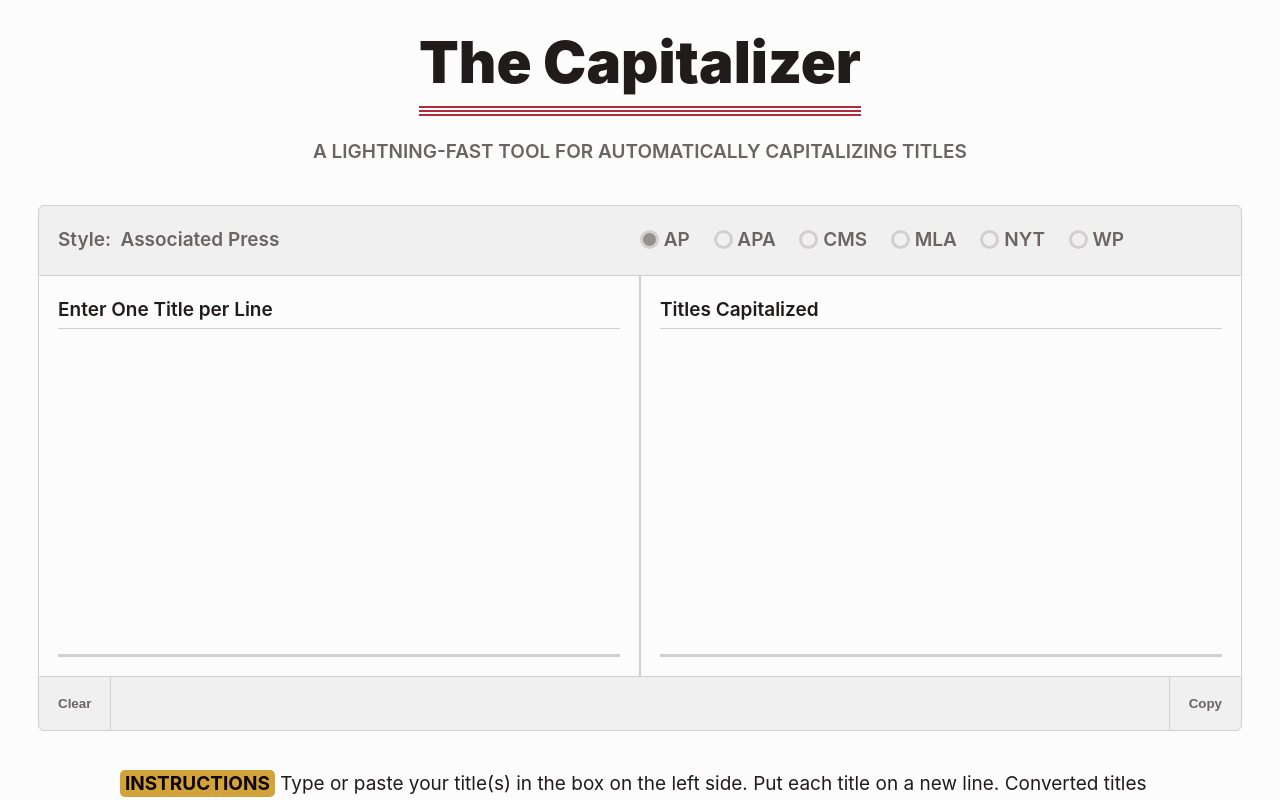
Scenario: App › wires the style selector to the input, and clear/copy buttons to the input's exposed methods
Type "the lord of the rings" into the text box with id "title-text".
click(339, 496); type("the lord of the rings")  # box [58,338,620,654]
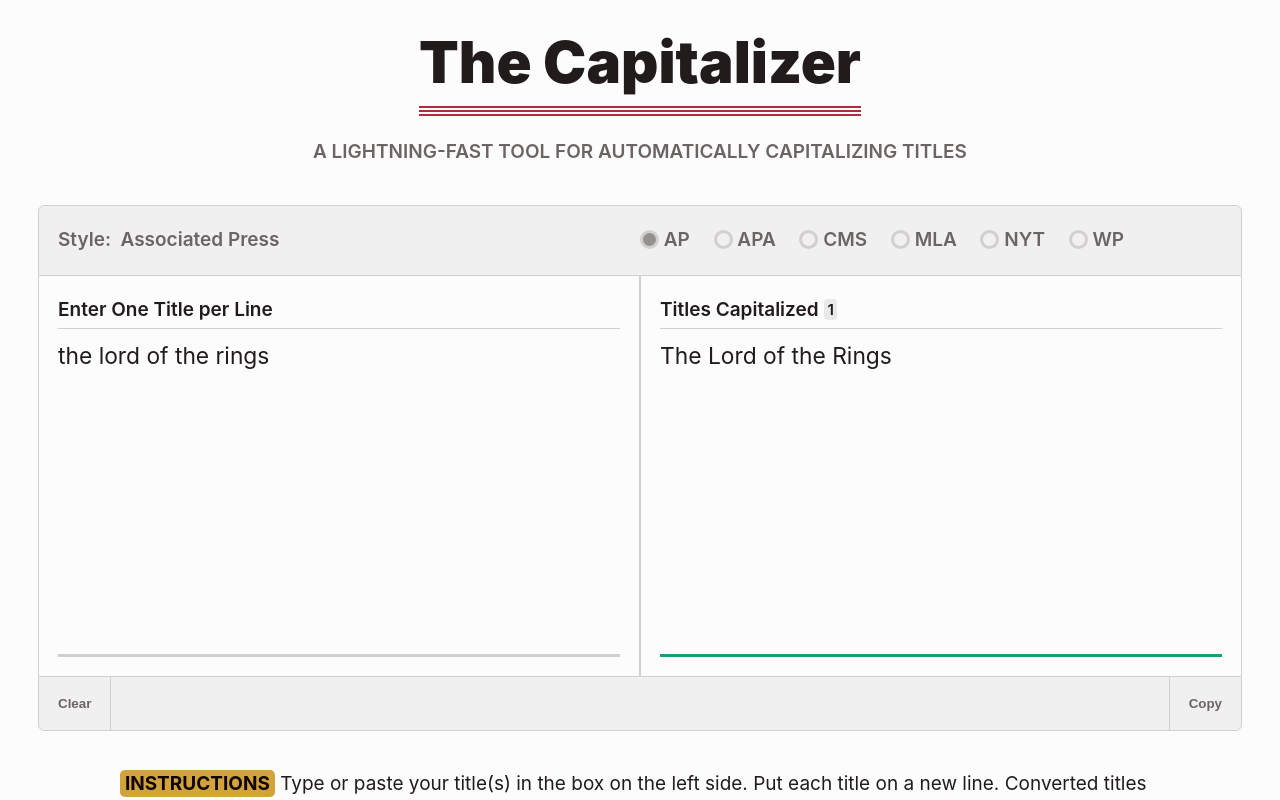
Click the radio button labelled "CMS".
click(833, 240)  # box [800,225,867,256]
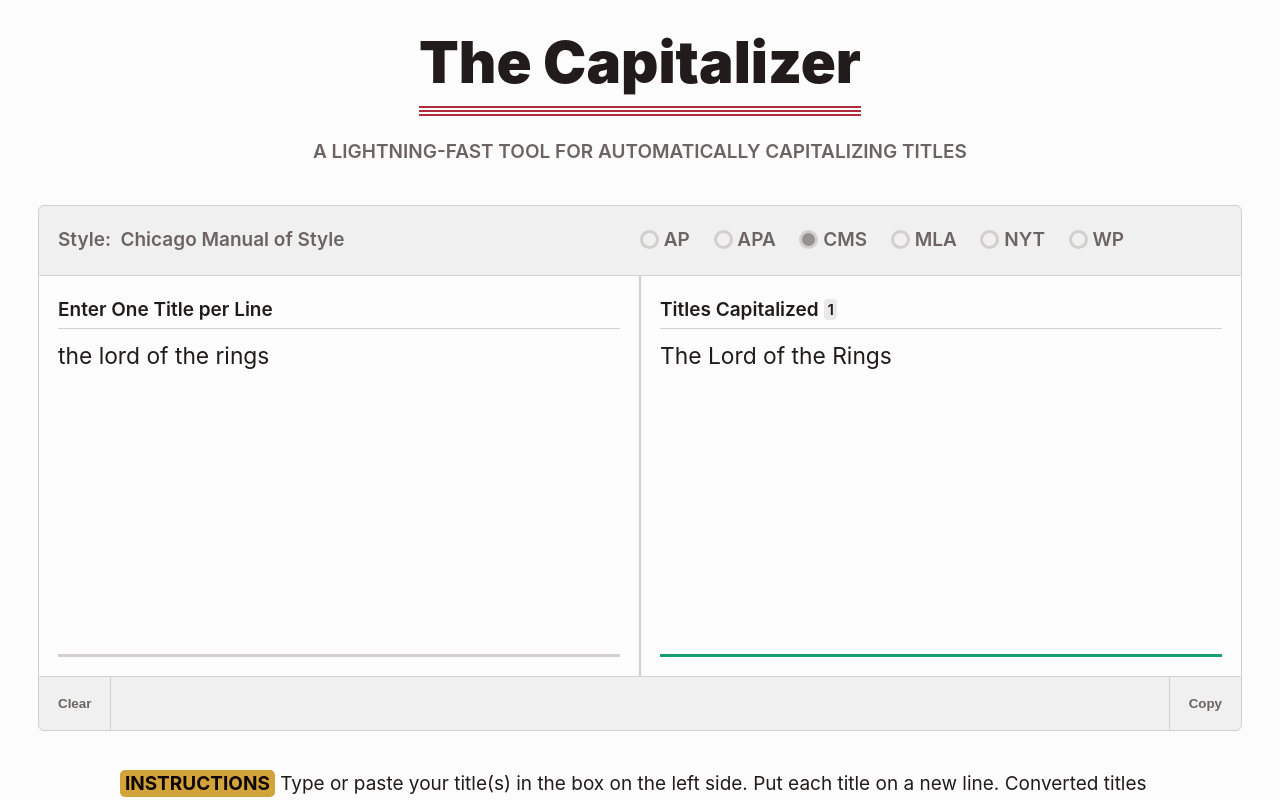
Result: the text with class "result-title" reads "The Lord of the Rings" at [660,342,892,370]
Click the button "Clear".
click(75, 703)  # box [39,677,111,730]
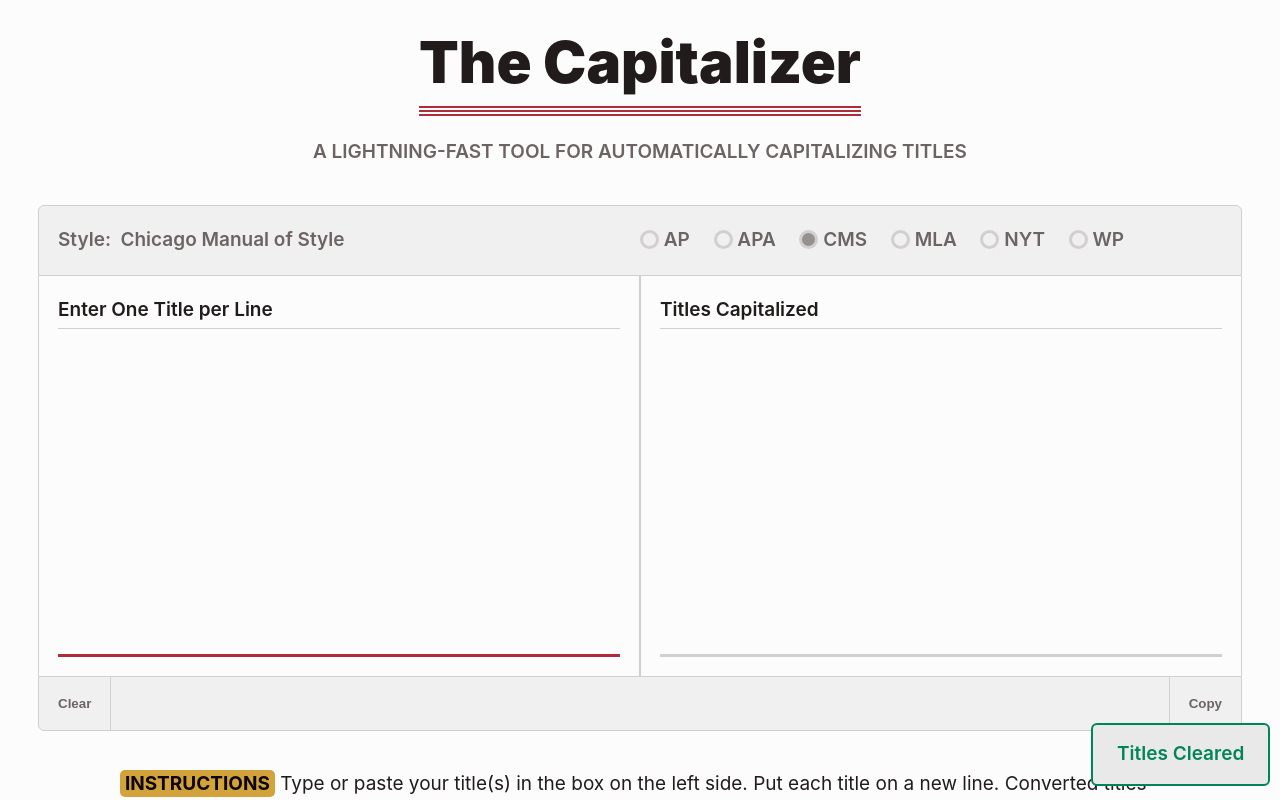
Result: the text box with id "title-text" is empty at [58,338,620,654]
